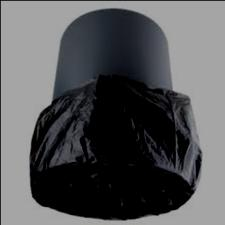Plastic: (29, 7, 205, 218)
